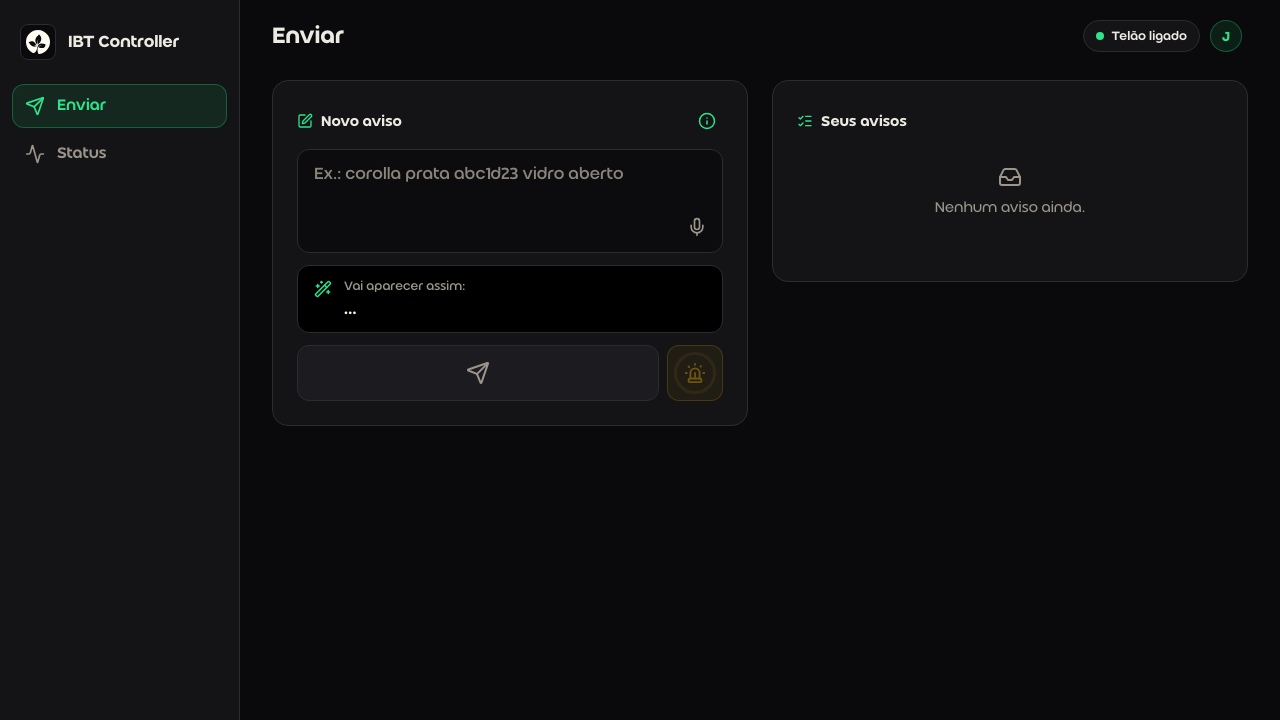
Shell › membro: abas Enviar e Status, sem Equipe; títulos trocam
The width and height of the screenshot is (1280, 720).
Expected: the tab "Enviar" is shown, [12,84,227,128]
Expected: the heading "Enviar" is shown, [272,20,344,52]
Click the tab "Status": (120, 154) [12,132,227,176]
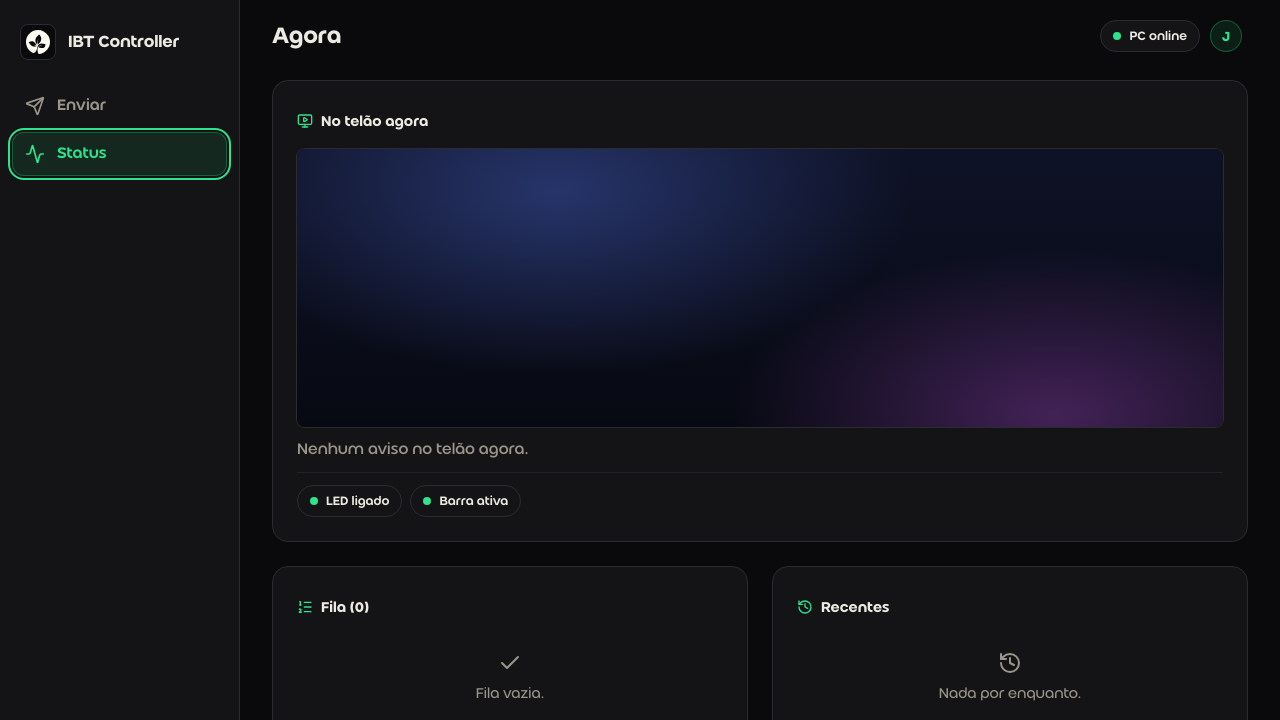
Result: the heading "Agora" is shown at [272,20,341,52]
